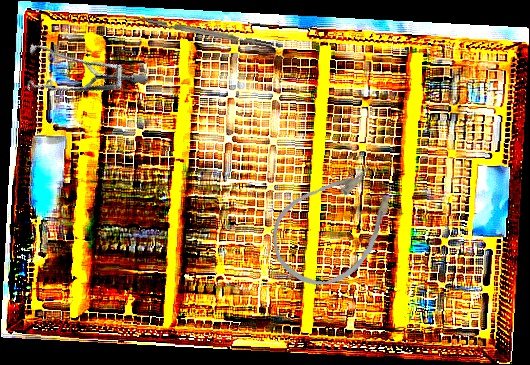Cannula: (254, 144, 418, 306)
Chopper: (125, 12, 274, 56)
Speculum: (7, 6, 150, 145)
